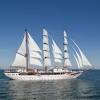tau_dansu: (6, 38, 87, 80)
